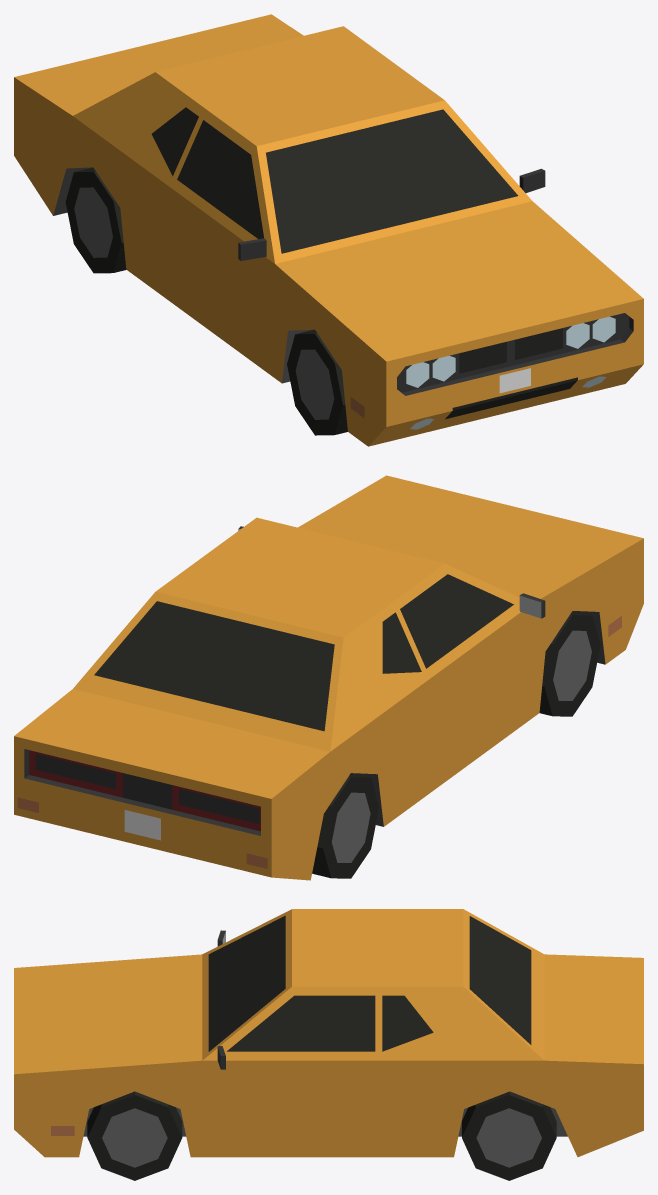
Rendered from Veh_Muscle_Car_01_Yellow.obj.
3 views of the same model, one above another, from view 1: azimuth 30°, elevation 25°; view 2: azimuth 150°, elevation 25°; view 3: azimuth 270°, elevation 25° (orthographic). The views are drawn at different scales.
Size of the model in its own units: 1.22 by 0.8156 by 2.59.
